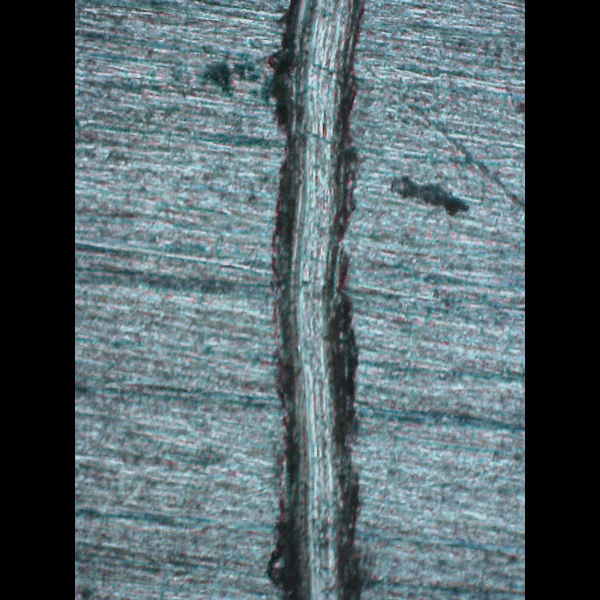d: (264, 0, 376, 595)
